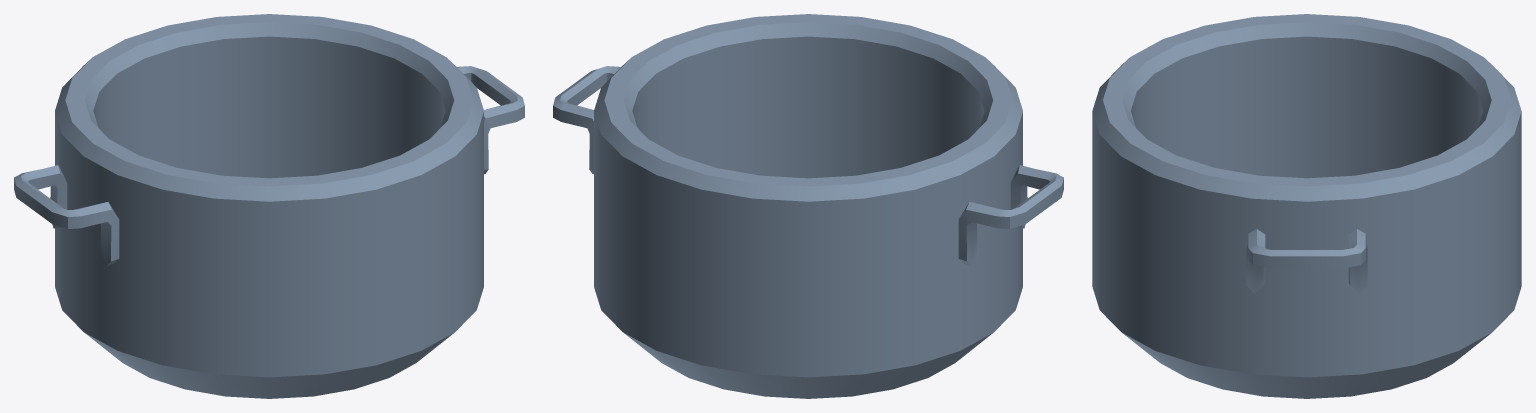
The model's file is Pot.fbx.
The picture shows the model from 3 angles, left to right: view 1: azimuth 30°, elevation 25°; view 2: azimuth 150°, elevation 25°; view 3: azimuth 270°, elevation 25°; orthographic projection.
Visible parts, largest first — view 1: Environment_Pot_1_Filled; view 2: Environment_Pot_1_Filled; view 3: Environment_Pot_1_Filled.
Part boxes in pixels (x1,y1,x2,y2): Environment_Pot_1_Filled: (14,14,524,398); Environment_Pot_1_Filled: (553,14,1063,398); Environment_Pot_1_Filled: (1092,14,1521,398).
Bounding box in the file's own units: 158 × 73.1 × 125.
